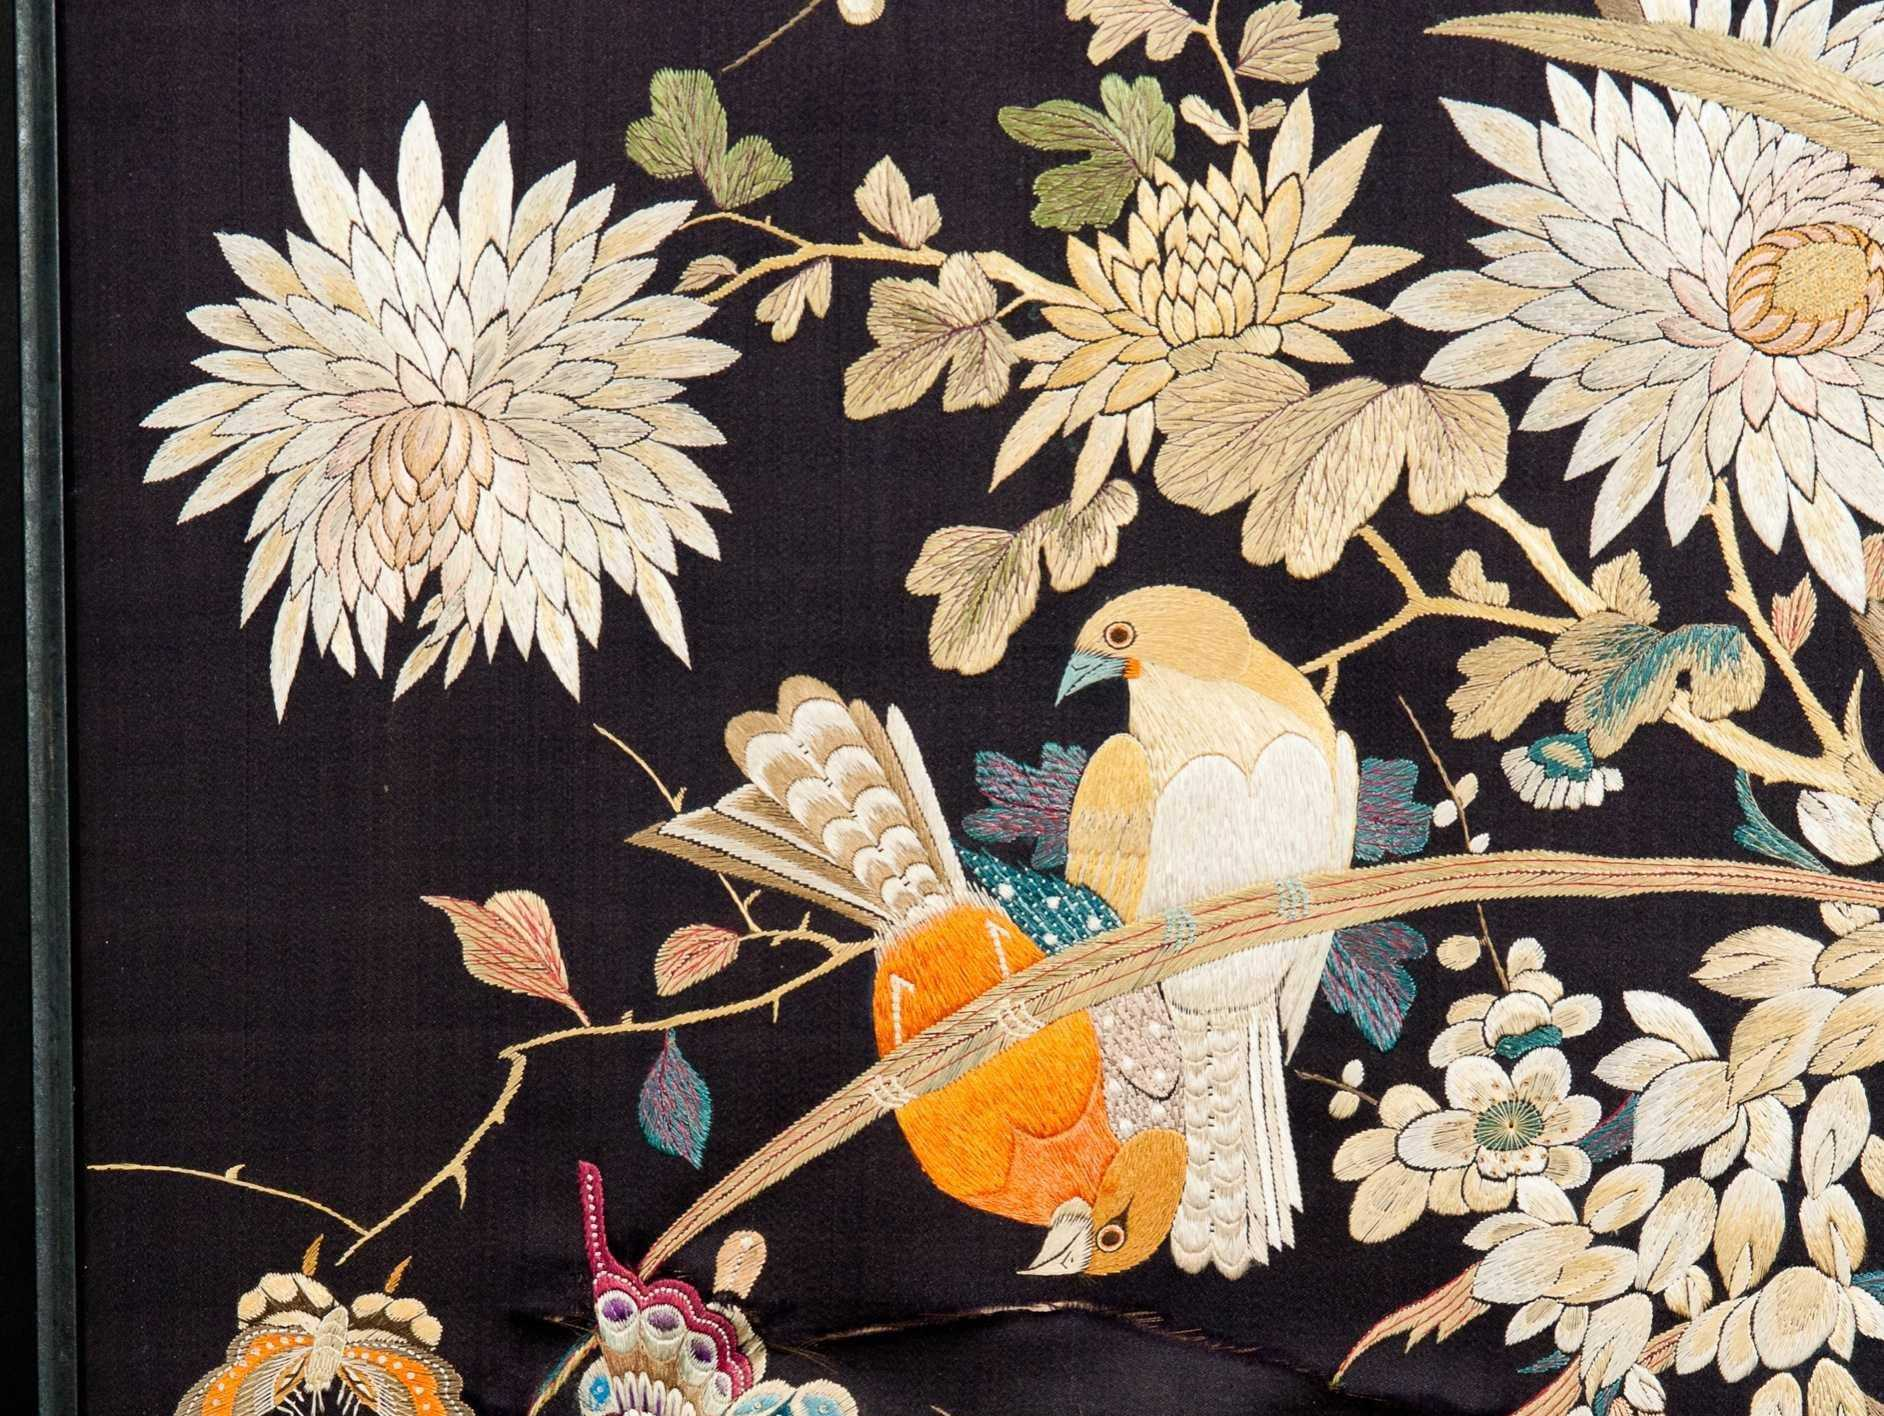bird: (613, 668, 1188, 1281), (1042, 582, 1375, 1284)
flower: (135, 100, 745, 721), (1378, 1, 1884, 626), (1010, 152, 1370, 425), (1404, 950, 1607, 1215)
